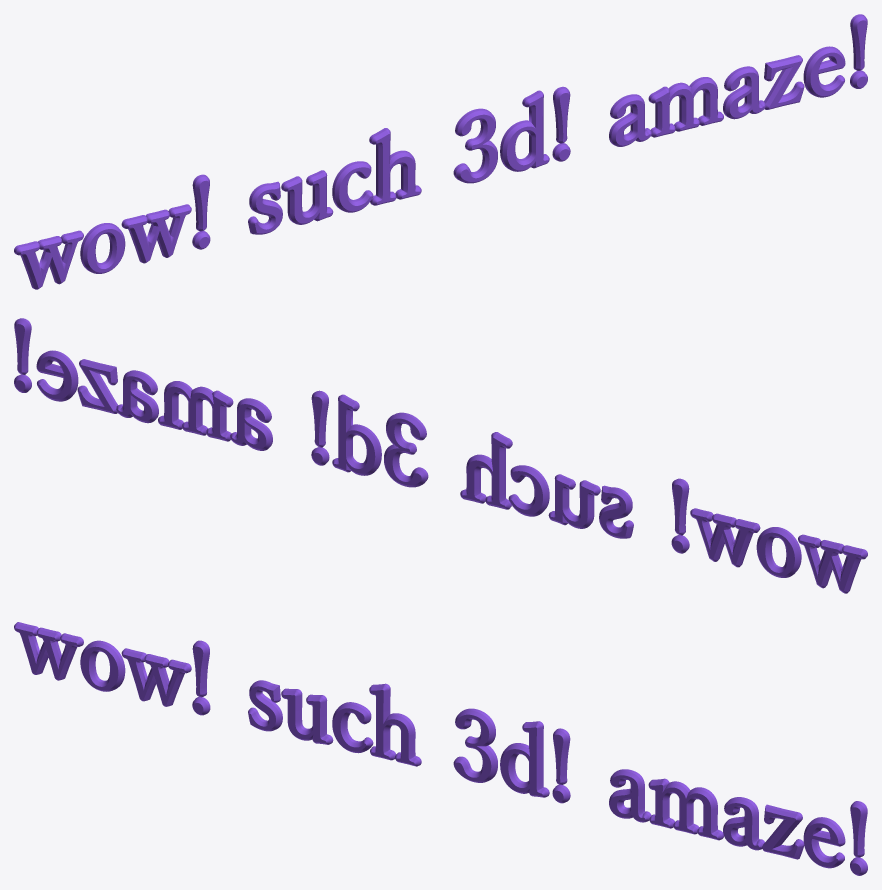
The model's file is such3d_text.obj.
3 renders of one model, top to bottom at view 1: azimuth 30°, elevation 25°; view 2: azimuth 150°, elevation 25°; view 3: azimuth 330°, elevation 25°, orthographic.
Parts seen in each view (by area): view 1: Text001; view 2: Text001; view 3: Text001.
Part boxes in pixels (x1,y1,x2,y2): Text001: (14,14,867,289); Text001: (14,318,867,593); Text001: (14,622,867,875).
Bounding box in the file's own units: 296 × 25.11 × 3.45.
